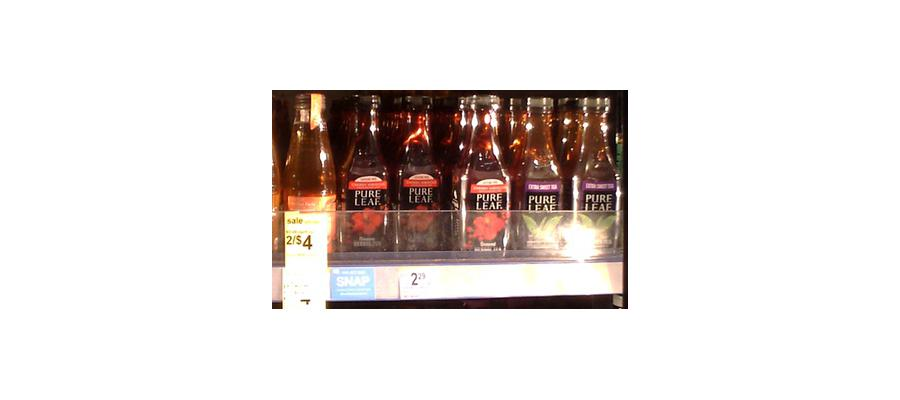bottle: (274, 91, 329, 301), (453, 90, 509, 254), (567, 88, 617, 253), (336, 95, 389, 250), (514, 86, 564, 249), (393, 98, 447, 246)
